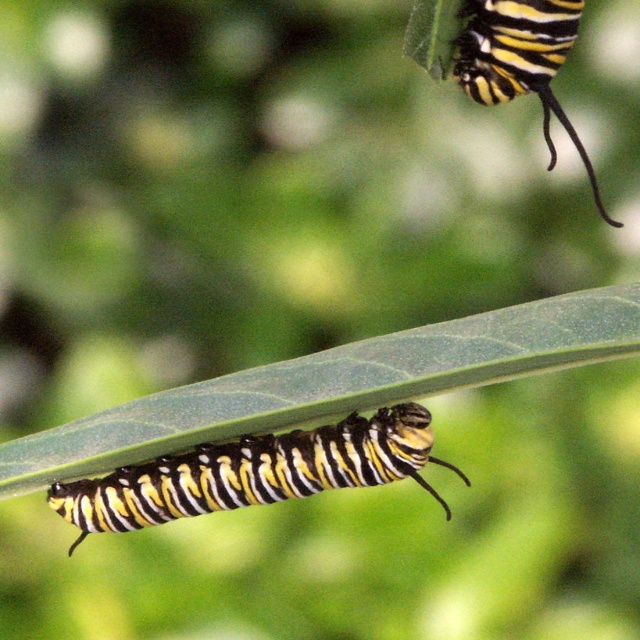Caterpillar: (47, 402, 471, 557), (434, 0, 624, 229)
